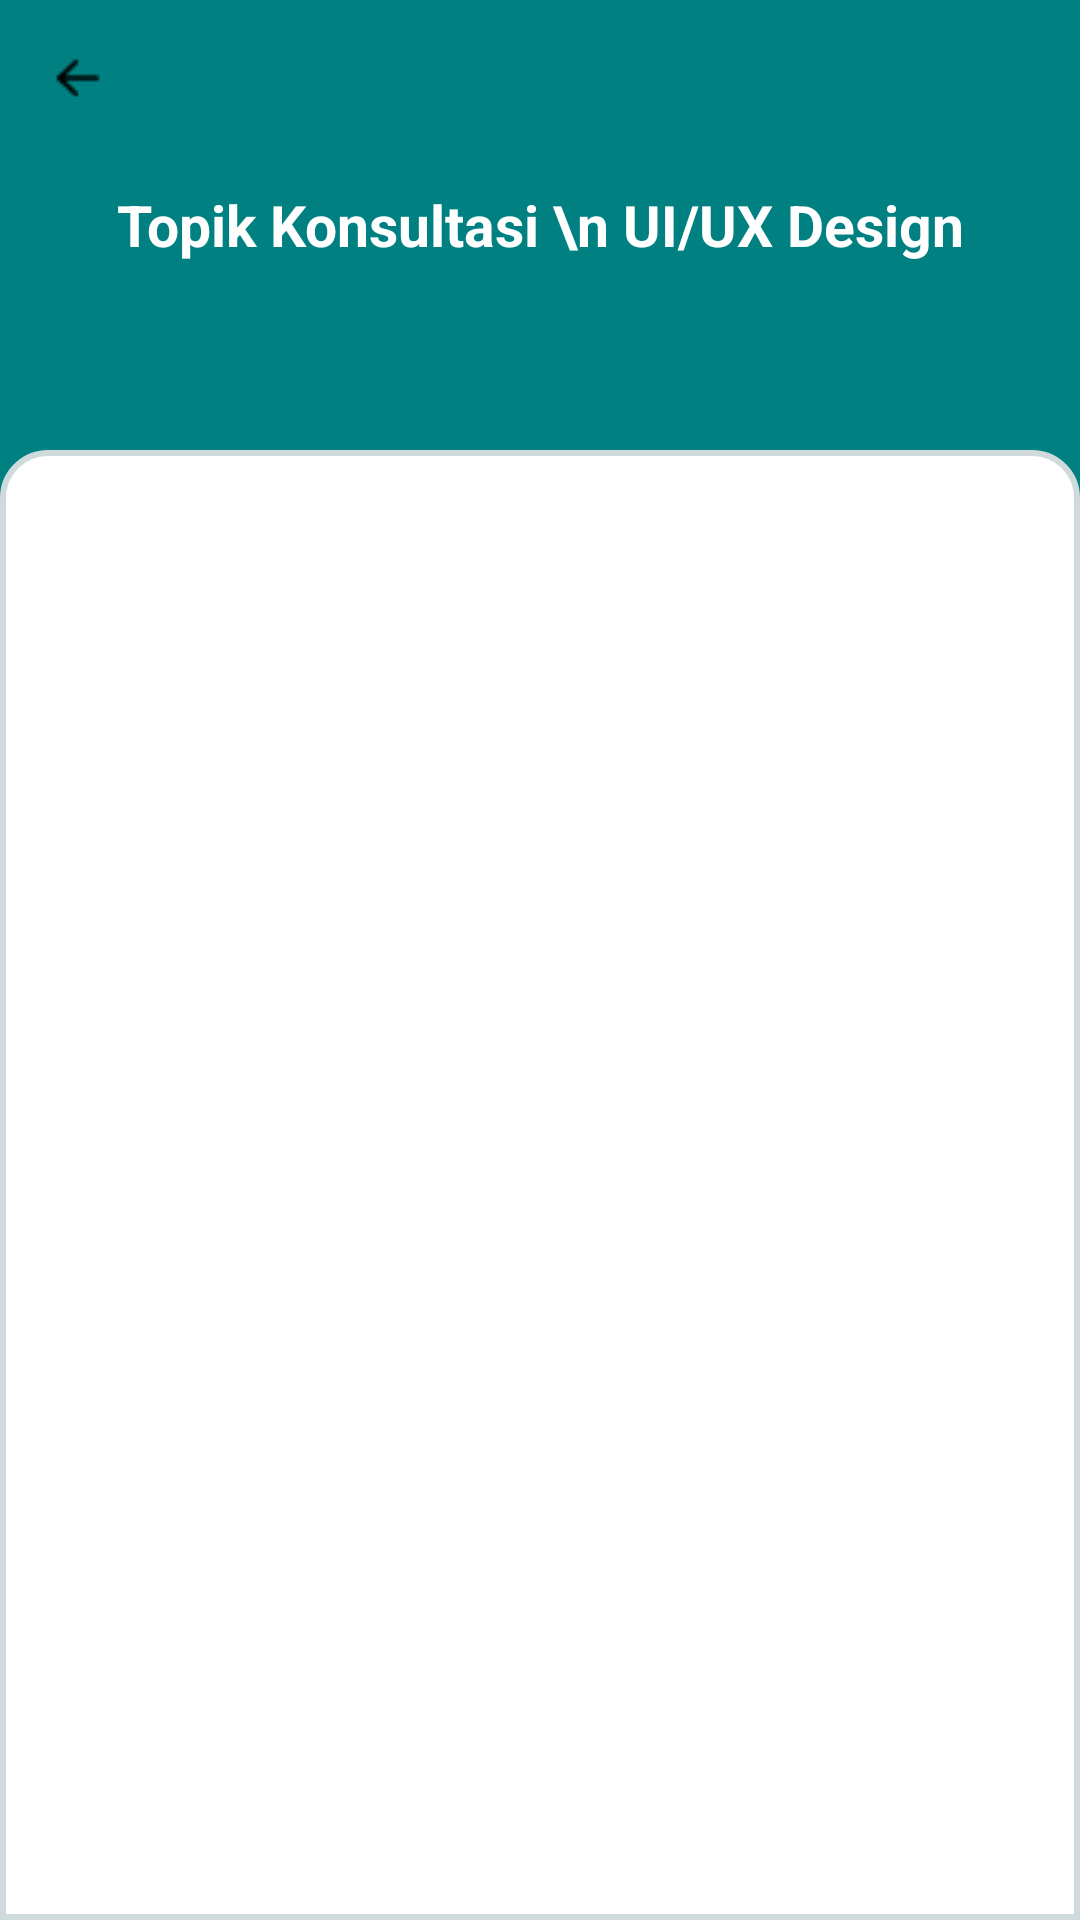

Locate icon controls on the screen. Image size 1080w x 1920h, boxes as (x1, y1, x2, y2).
left: (56, 59, 100, 97)
